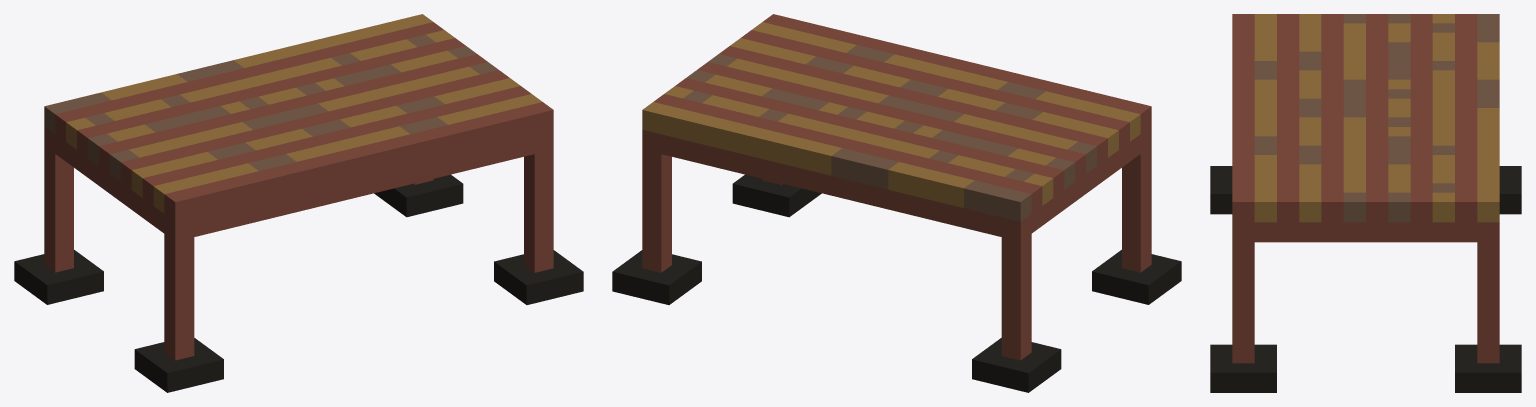
File: Medieval Assets-18-Decoration - Table - Plank Variant2.obj
The picture shows the model from 3 angles, left to right: view 1: azimuth 30°, elevation 25°; view 2: azimuth 150°, elevation 25°; view 3: azimuth 270°, elevation 25°; orthographic projection.
Parts seen in each view (by area): view 1: Decoration - Table - Plank Variant2; view 2: Decoration - Table - Plank Variant2; view 3: Decoration - Table - Plank Variant2.
Boxes of the visible parts, x1,y1,x2,y2 form: Decoration - Table - Plank Variant2: (14,14,583,392); Decoration - Table - Plank Variant2: (612,14,1181,392); Decoration - Table - Plank Variant2: (1210,14,1521,392).
Size of the model in its own units: 2.2 by 0.9 by 1.4.
1 material, 1 textured.
